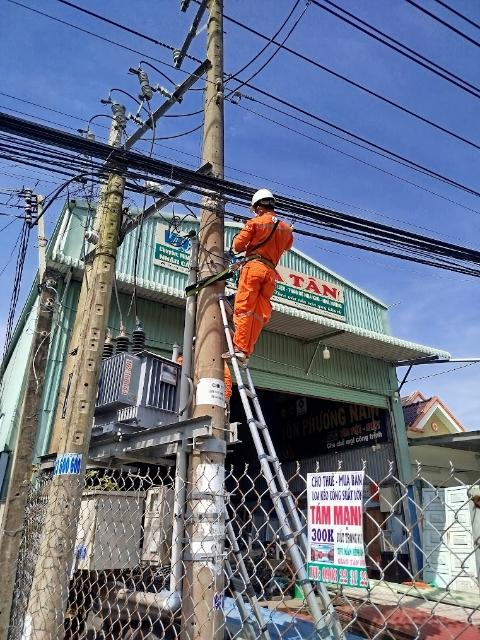harness: (233, 243, 284, 275)
helmet: (250, 185, 282, 215)
shoes: (219, 345, 246, 363)
